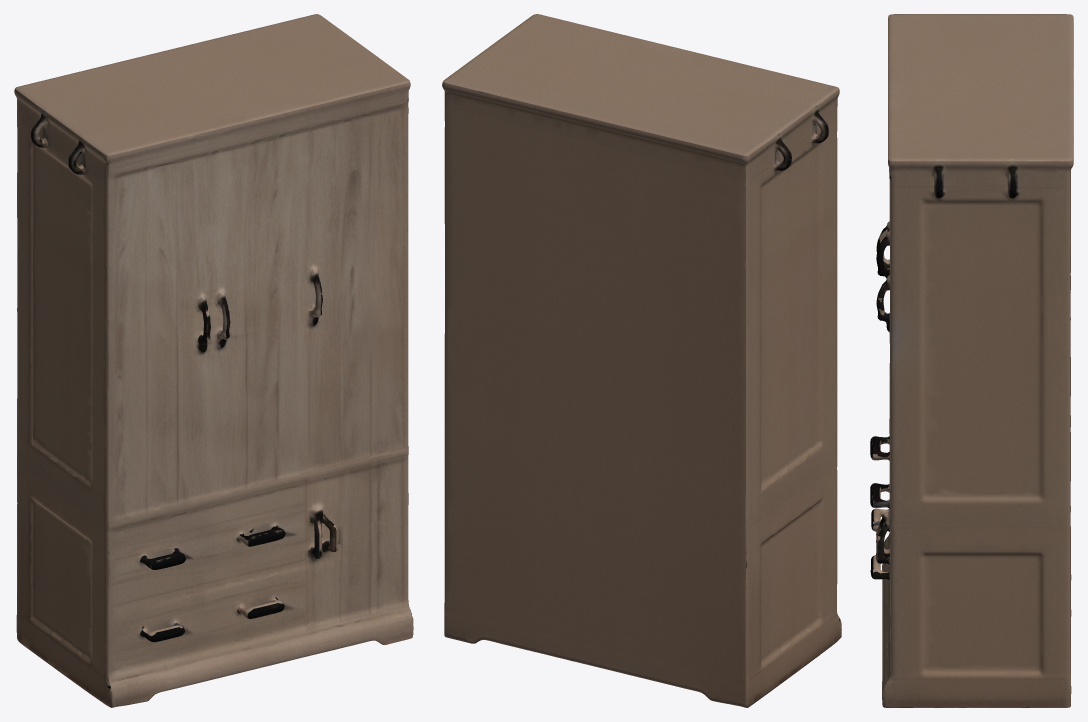
File: wardrobe__wardrobe#1.glb
The picture shows the model from 3 angles, left to right: view 1: azimuth 30°, elevation 25°; view 2: azimuth 150°, elevation 25°; view 3: azimuth 270°, elevation 25°; orthographic projection.
Visible parts, largest first — view 1: tmp_b2drexb.ply; view 2: tmp_b2drexb.ply; view 3: tmp_b2drexb.ply.
Boxes of the visible parts, box(x1,y1,x2,y2) form: tmp_b2drexb.ply: box(14, 14, 413, 707); tmp_b2drexb.ply: box(442, 14, 841, 707); tmp_b2drexb.ply: box(870, 14, 1073, 707).
Size of the model in its own units: 1.23 by 1.99 by 0.6676.
1 material, 1 textured.
